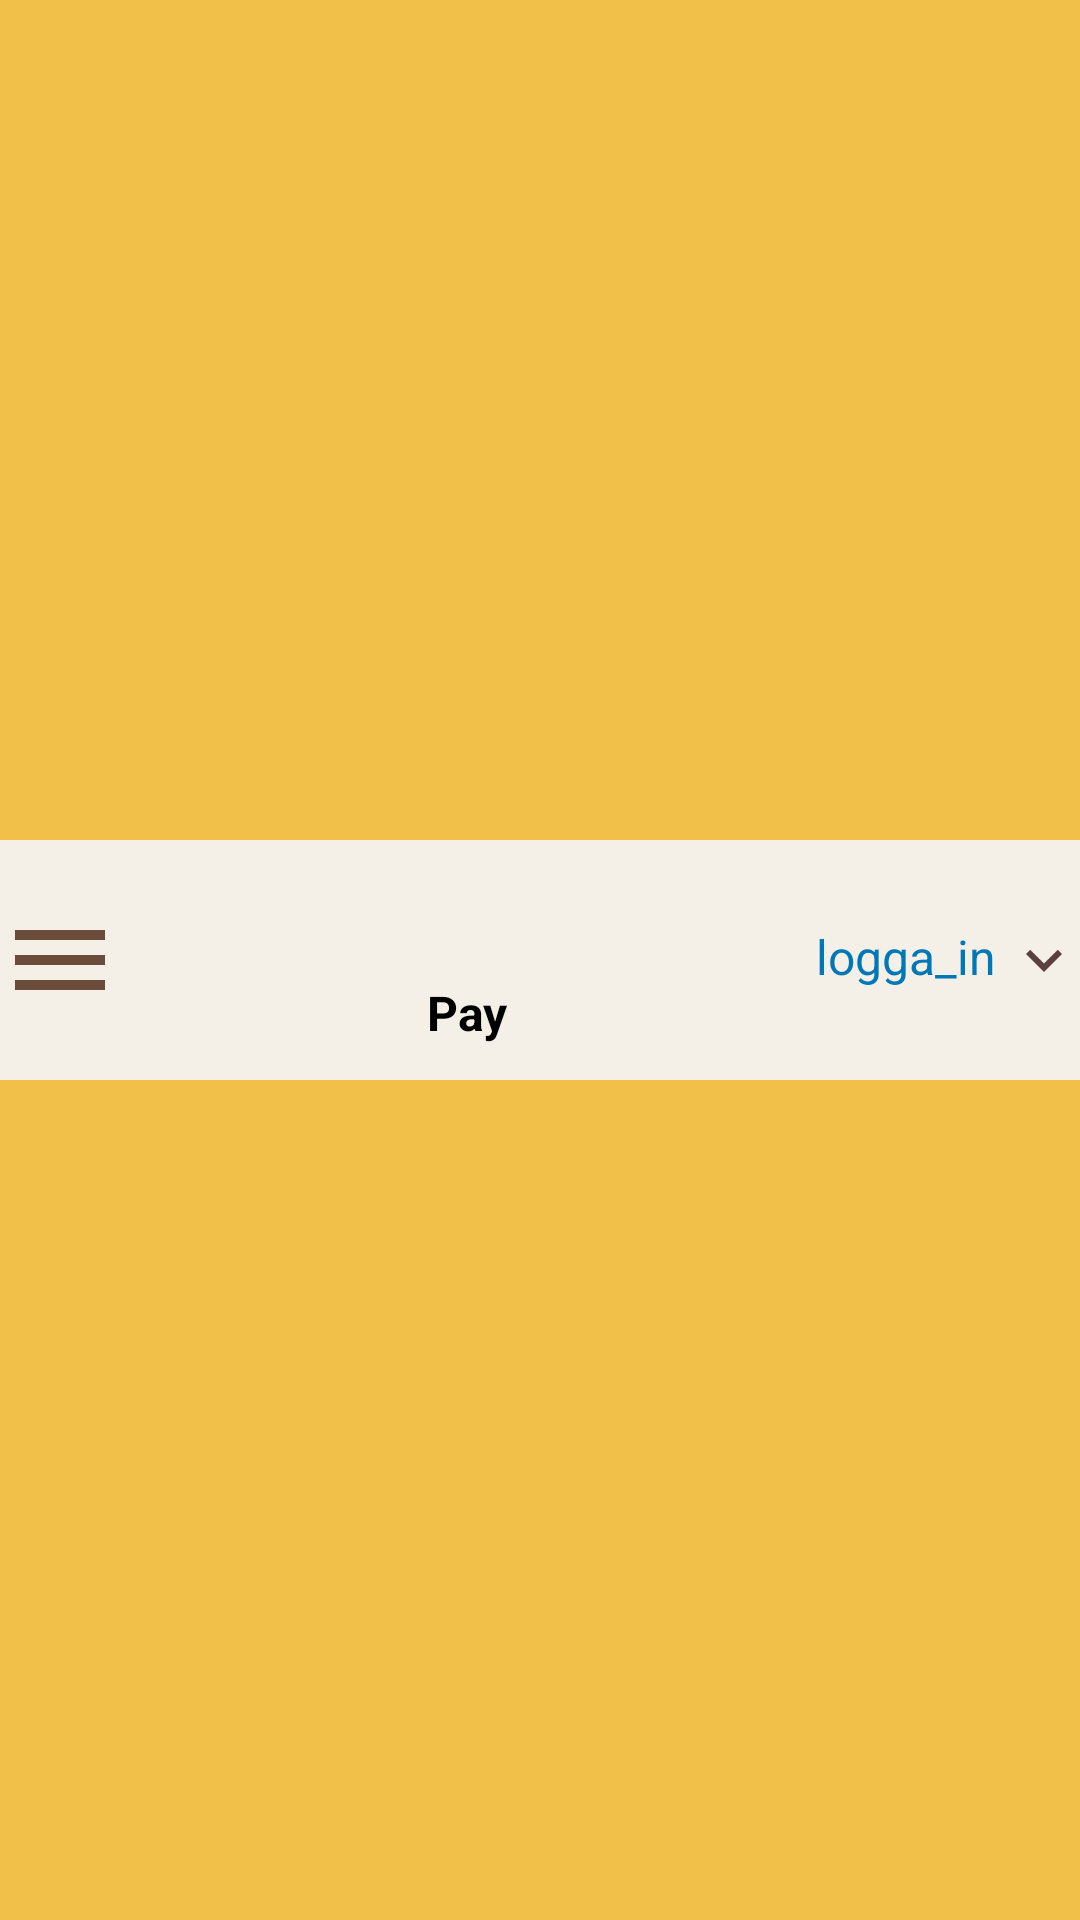

Where to tap for icons on this 1080 x 1920 app screen, as [x,y]:
menu: [60,960]
